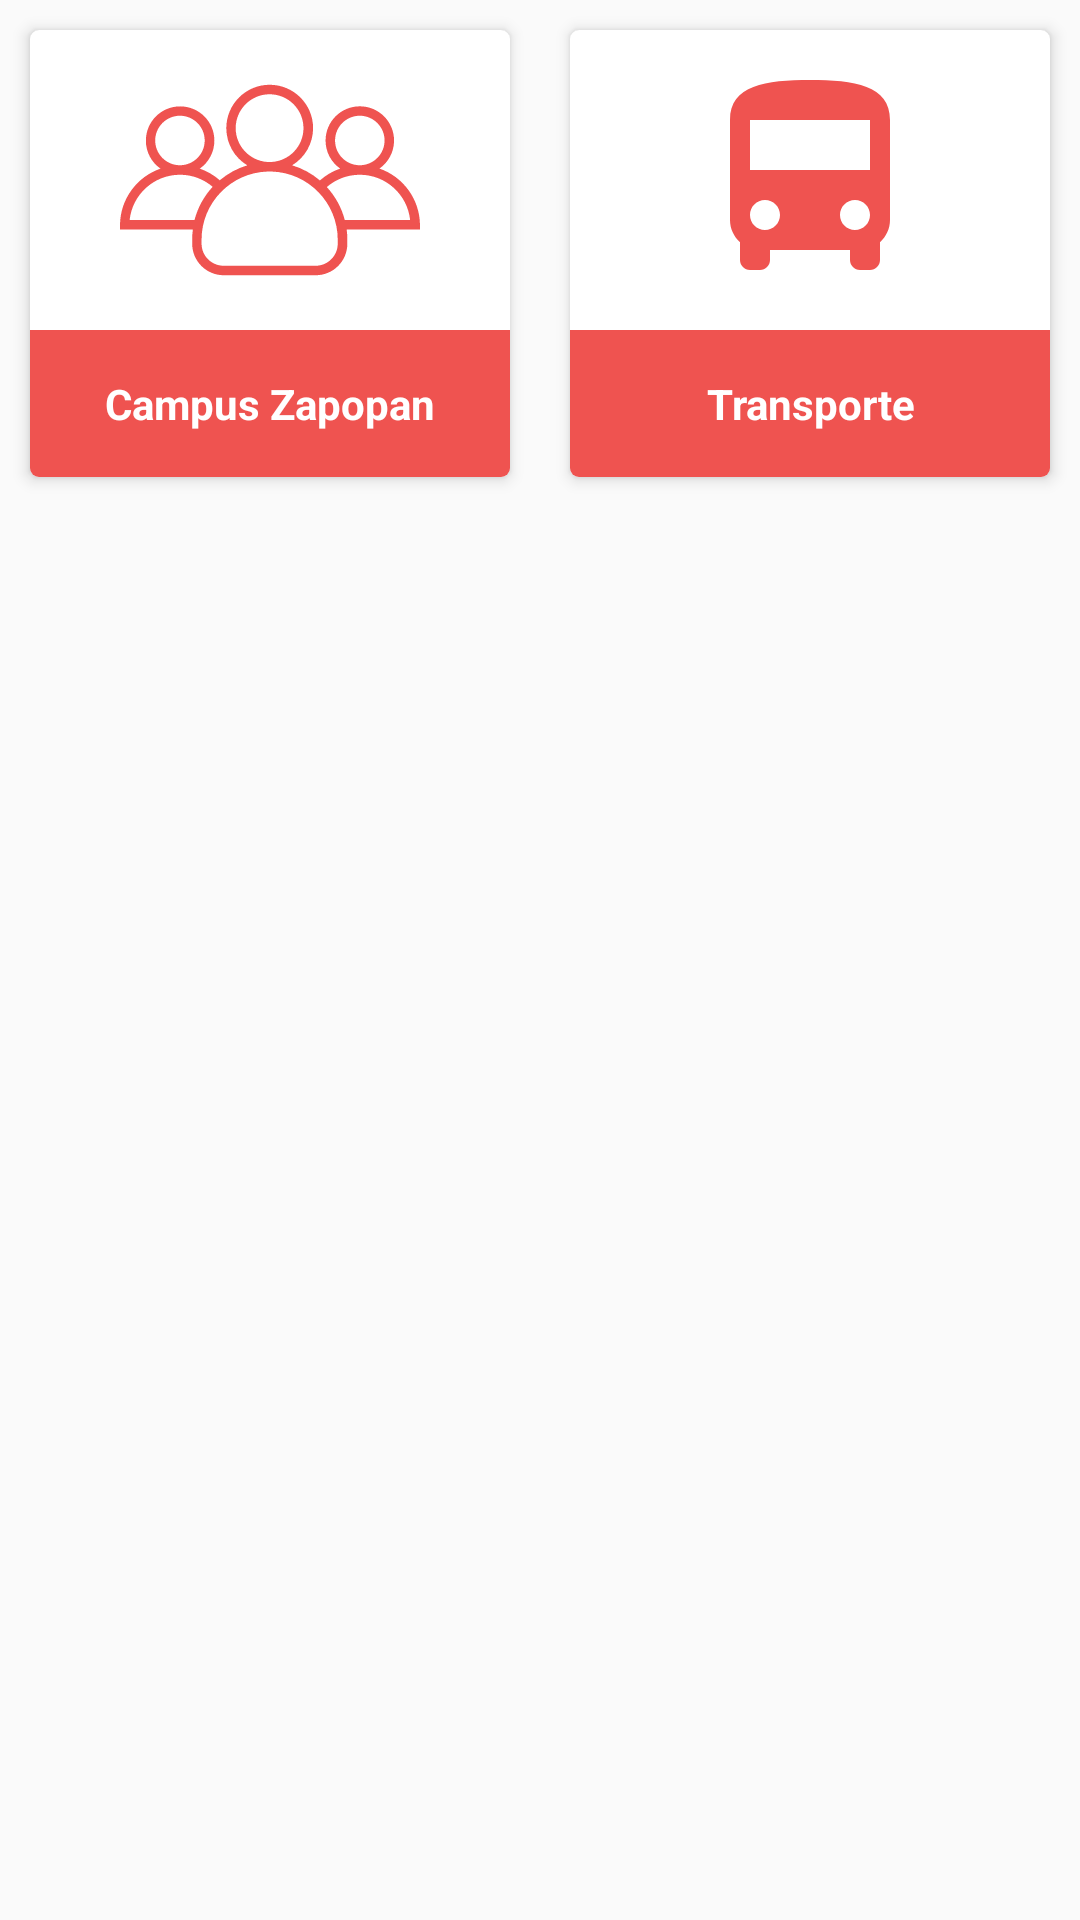

Screen size 1080w x 1920h. Icon name, then its center in pixels as (x,y):
bus: (810,175)
grupo: (270,180)
